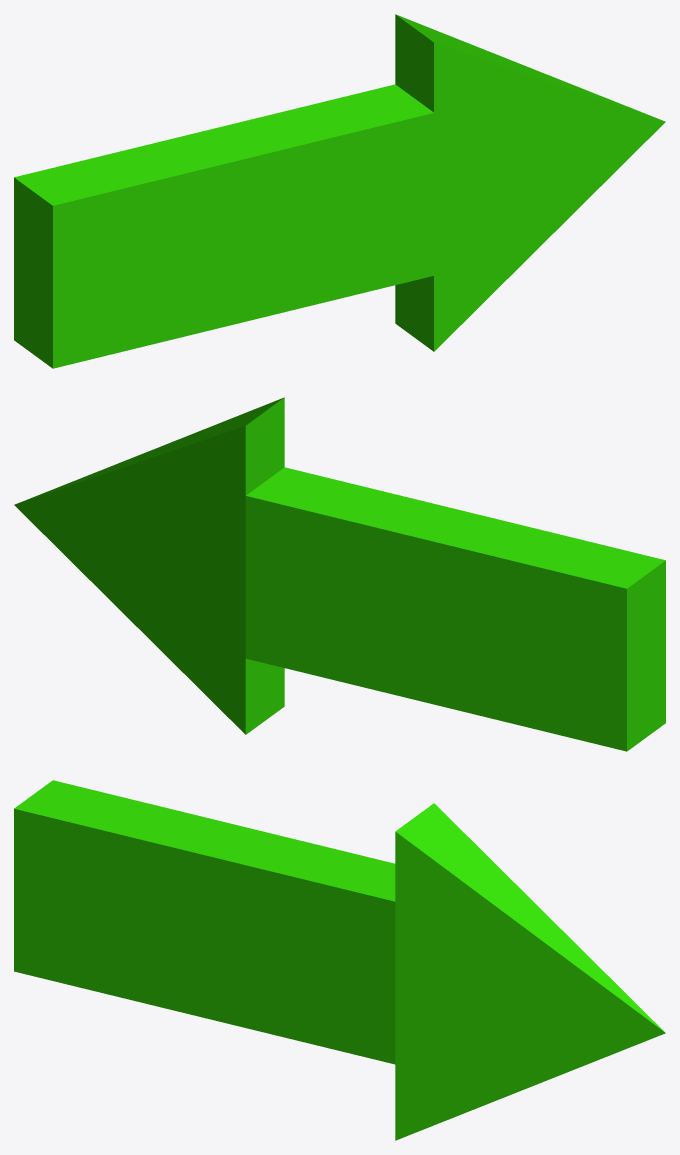
Rendered from arrow.glb.
3 views of the same model, one above another, from view 1: azimuth 30°, elevation 25°; view 2: azimuth 150°, elevation 25°; view 3: azimuth 330°, elevation 25° (orthographic).
Parts seen in each view (by area): view 1: mesh_id30, mesh_id32; view 2: mesh_id30, mesh_id32; view 3: mesh_id30, mesh_id32.
Part boxes in pixels (<box>): mesh_id30: <box>14,84,434,368</box>; mesh_id32: <box>395,14,665,351</box>; mesh_id30: <box>245,467,665,751</box>; mesh_id32: <box>14,397,284,734</box>; mesh_id30: <box>14,780,395,1064</box>; mesh_id32: <box>395,803,665,1140</box>.
Size of the model in its own units: 0.5596 by 0.2615 by 0.0597.
